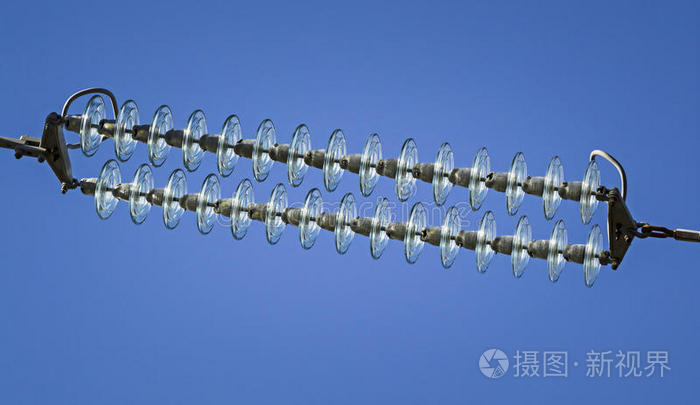insulator: (74, 94, 608, 286)
